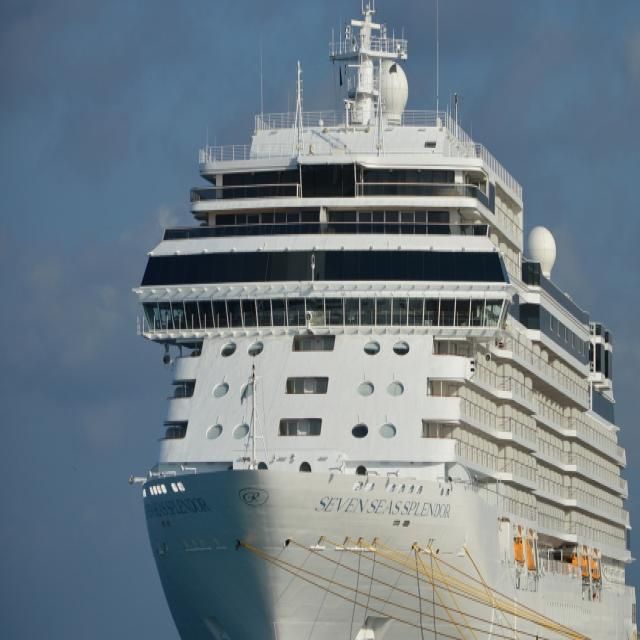cruises: (109, 1, 640, 640)
